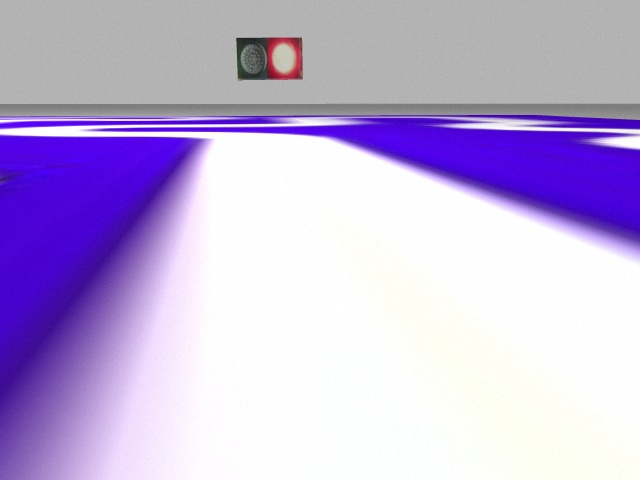red: (267, 37, 302, 81)
